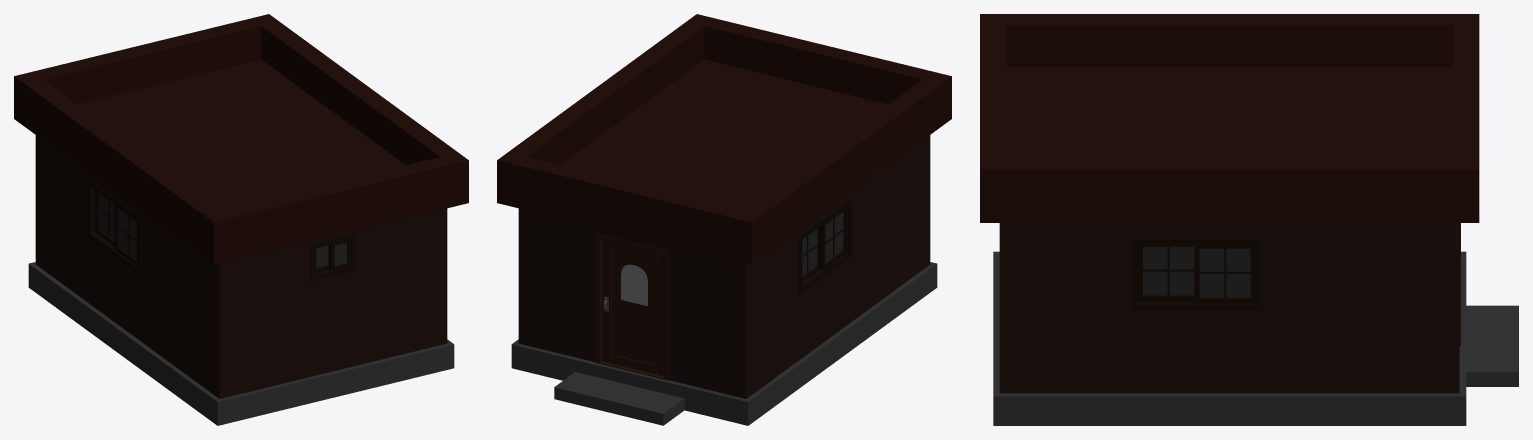
The model's file is H-004(ext)_02_F.FBX.
3 renders of one model, left to right at view 1: azimuth 30°, elevation 25°; view 2: azimuth 150°, elevation 25°; view 3: azimuth 270°, elevation 25°, orthographic. The views are drawn at different scales.
Visible parts, largest first — view 1: h-004(ext)_02; view 2: h-004(ext)_02, h-004(ext)_02_door_door, h-004(ext)_02_door_frame; view 3: h-004(ext)_02.
Boxes of the visible parts, box(x1,y1,x2,y2) form: h-004(ext)_02: box(14, 14, 468, 425); h-004(ext)_02: box(497, 14, 951, 425); h-004(ext)_02_door_door: box(602, 240, 663, 376); h-004(ext)_02_door_frame: box(595, 234, 668, 380); h-004(ext)_02: box(980, 14, 1518, 425).
Size of the model in its own units: 56 by 44 by 82.
